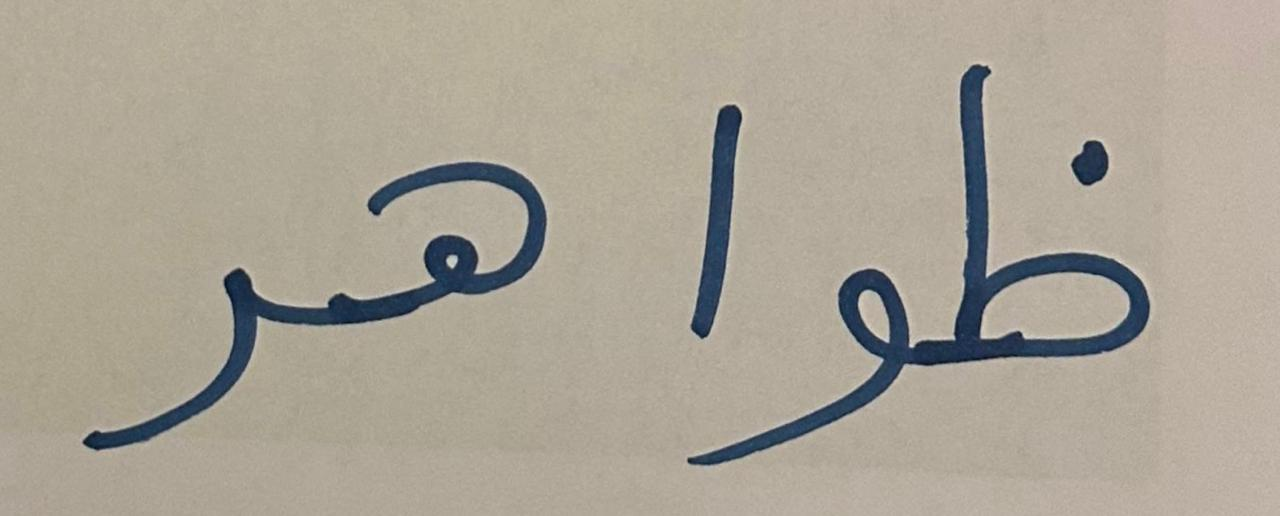alef: (621, 42, 749, 368)
jeem: (342, 88, 616, 354)
sad: (17, 192, 339, 495)
yeh: (753, 209, 928, 465)
zain: (932, 30, 1201, 423)
